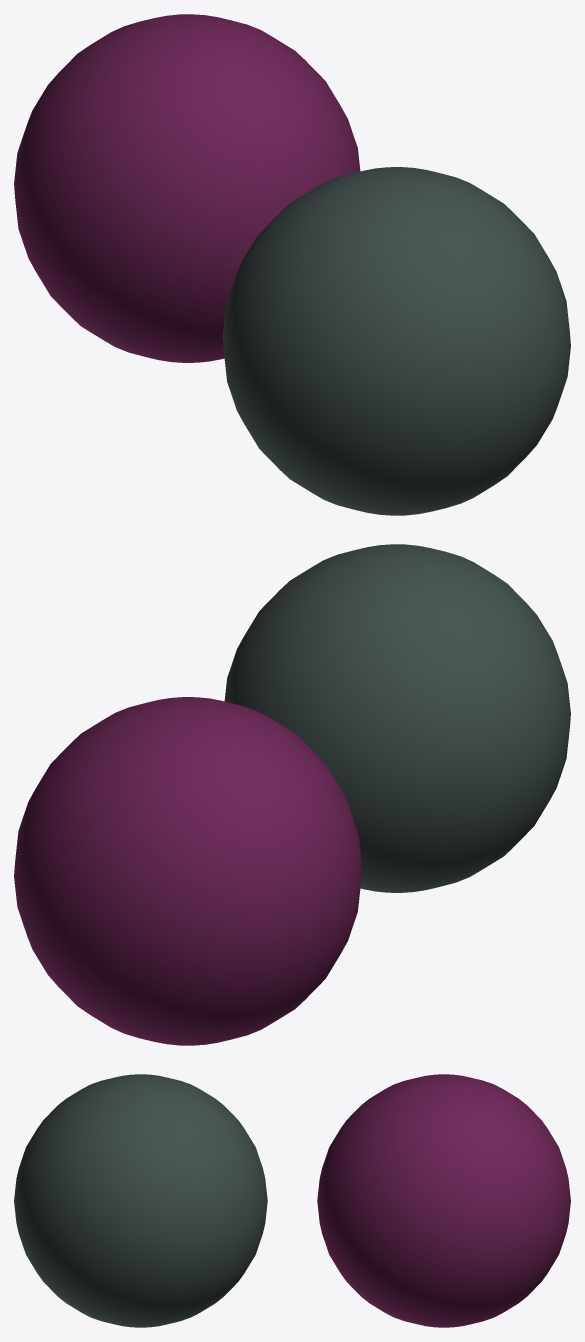
3 renders of one model, top to bottom at view 1: azimuth 30°, elevation 25°; view 2: azimuth 150°, elevation 25°; view 3: azimuth 270°, elevation 25°, orthographic. The views are drawn at different scales.
Parts seen in each view (by area): view 1: Sphere, Sphere_1; view 2: Sphere_1, Sphere; view 3: Sphere_1, Sphere.
Part boxes in pixels (x1=…): Sphere: x1=222, y1=167, x2=570, y2=515; Sphere_1: x1=14, y1=14, x2=360, y2=362; Sphere_1: x1=14, y1=697, x2=362, y2=1045; Sphere: x1=224, y1=544, x2=570, y2=892; Sphere_1: x1=317, y1=1074, x2=570, y2=1327; Sphere: x1=14, y1=1074, x2=267, y2=1327.
Bounding box in the file's own units: 200 × 200 × 439.
